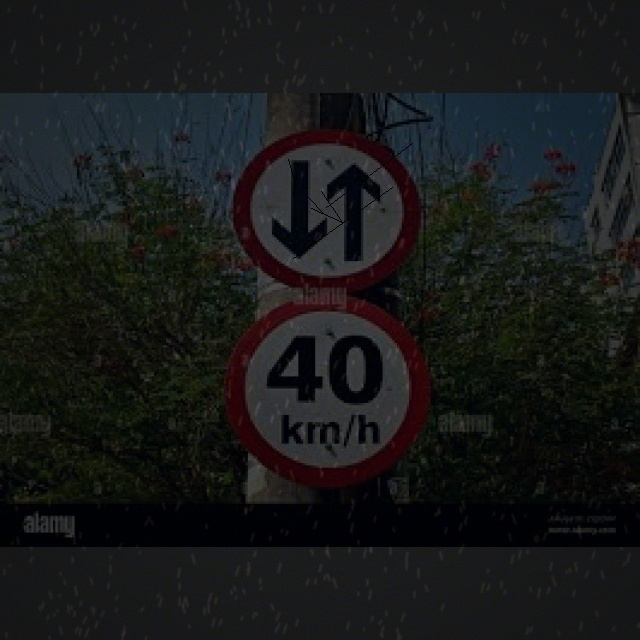Mandatory_Two_Way_Traffic: (237, 134, 419, 287)
